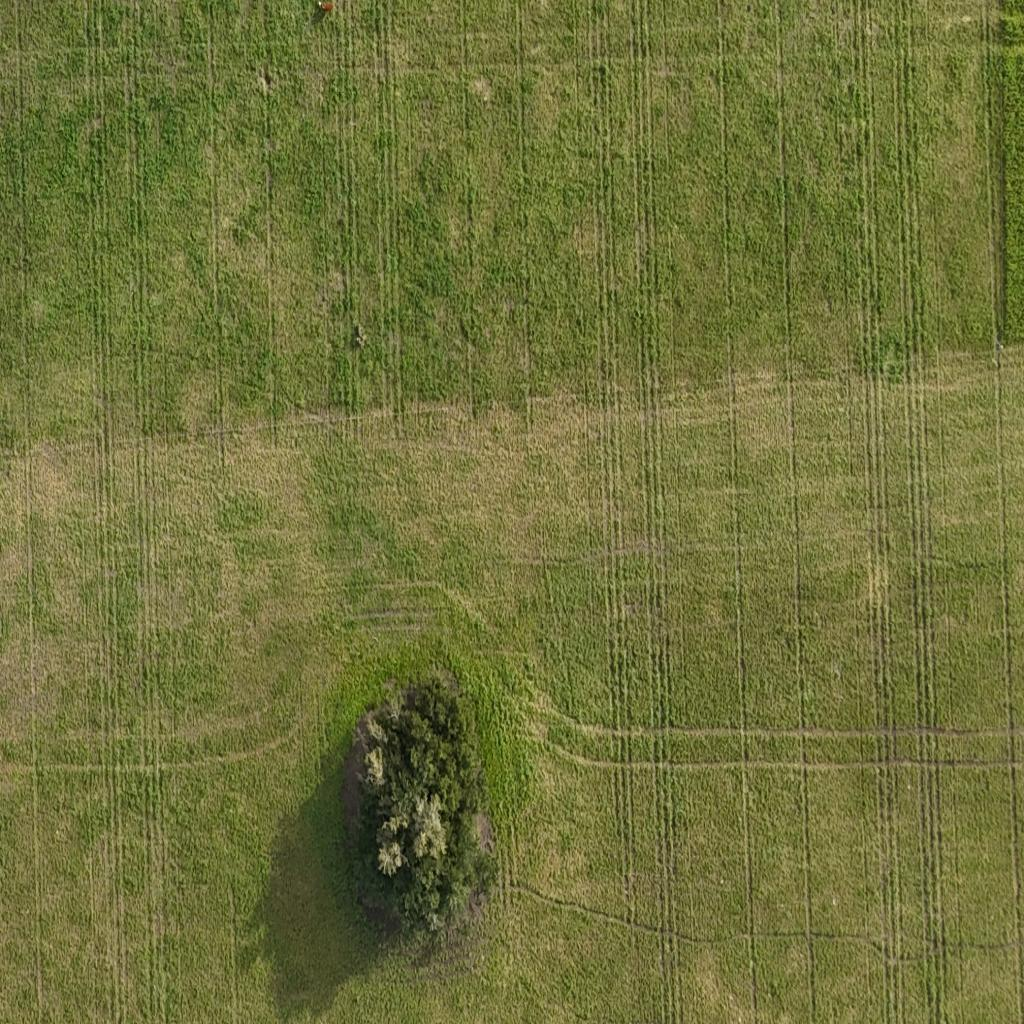cow: (314, 0, 335, 22)
